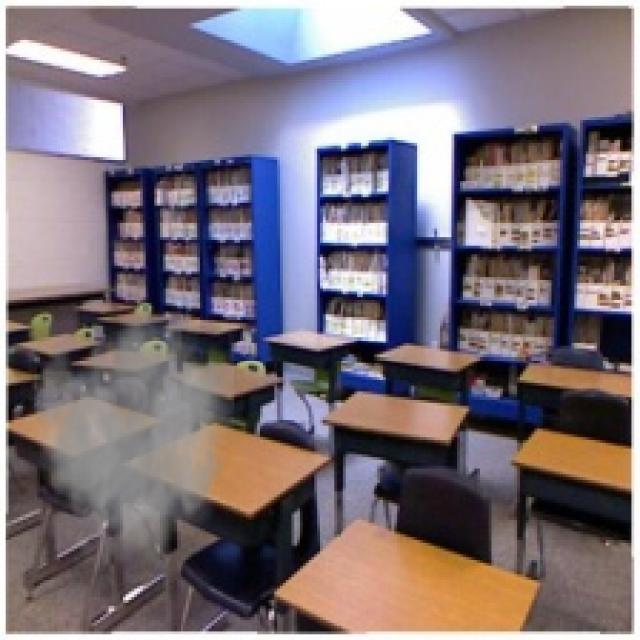Smoke: (20, 302, 234, 578)
